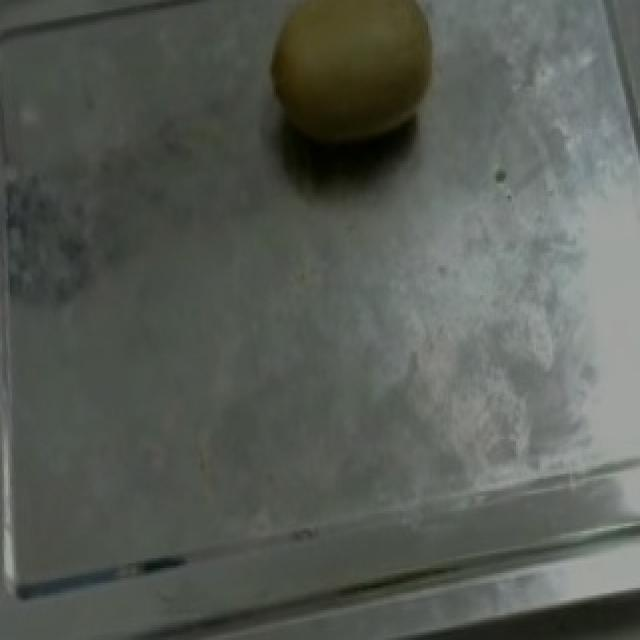Fruit: (242, 0, 462, 171)
